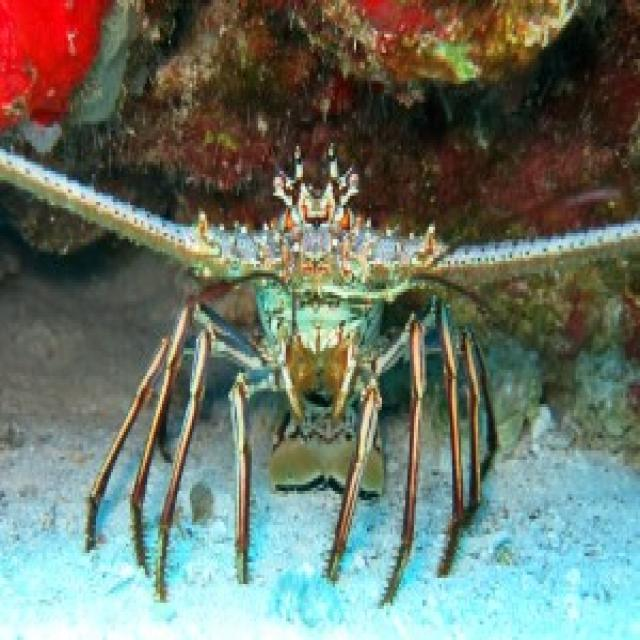lobsters: (0, 94, 640, 622)
